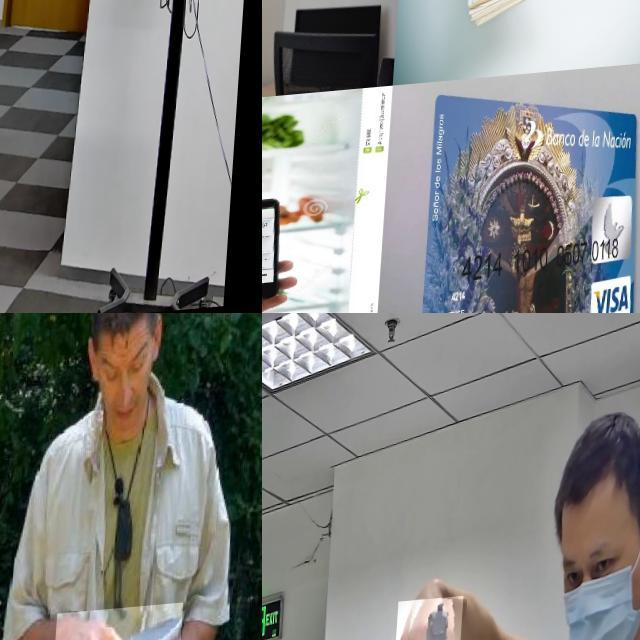-: (57, 610, 188, 640)
gun-knife-thesis - v11 Yolov5 augmented: (0, 0, 17, 55)
